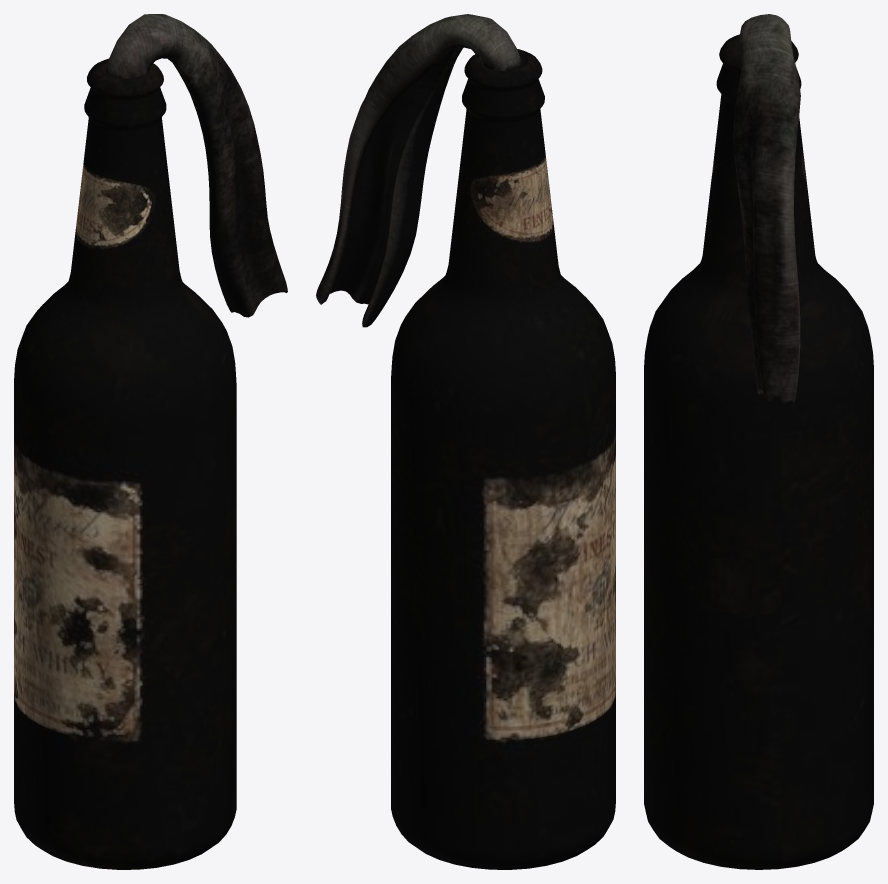
The model's file is weapon_grenade_molotov.glb.
3 views of the same model, side by side, from view 1: azimuth 30°, elevation 25°; view 2: azimuth 150°, elevation 25°; view 3: azimuth 270°, elevation 25° (orthographic). The views are drawn at different scales.
Visible parts, largest first — view 1: Object_2, Object_3; view 2: Object_2, Object_3; view 3: Object_2, Object_3.
Boxes of the visible parts, x1,y1,x2,y2 form: Object_2: (14,58,236,869); Object_3: (106,14,287,317); Object_2: (391,49,615,869); Object_3: (316,14,521,327); Object_2: (644,34,873,869); Object_3: (733,14,800,404).
Size of the model in its own units: 0.086 by 0.245 by 0.0619.
1 material, 1 textured.
